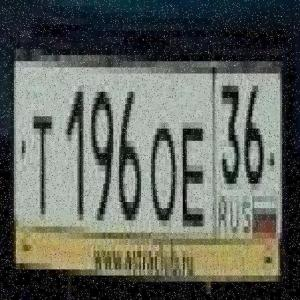Plate: (8, 31, 291, 286)
